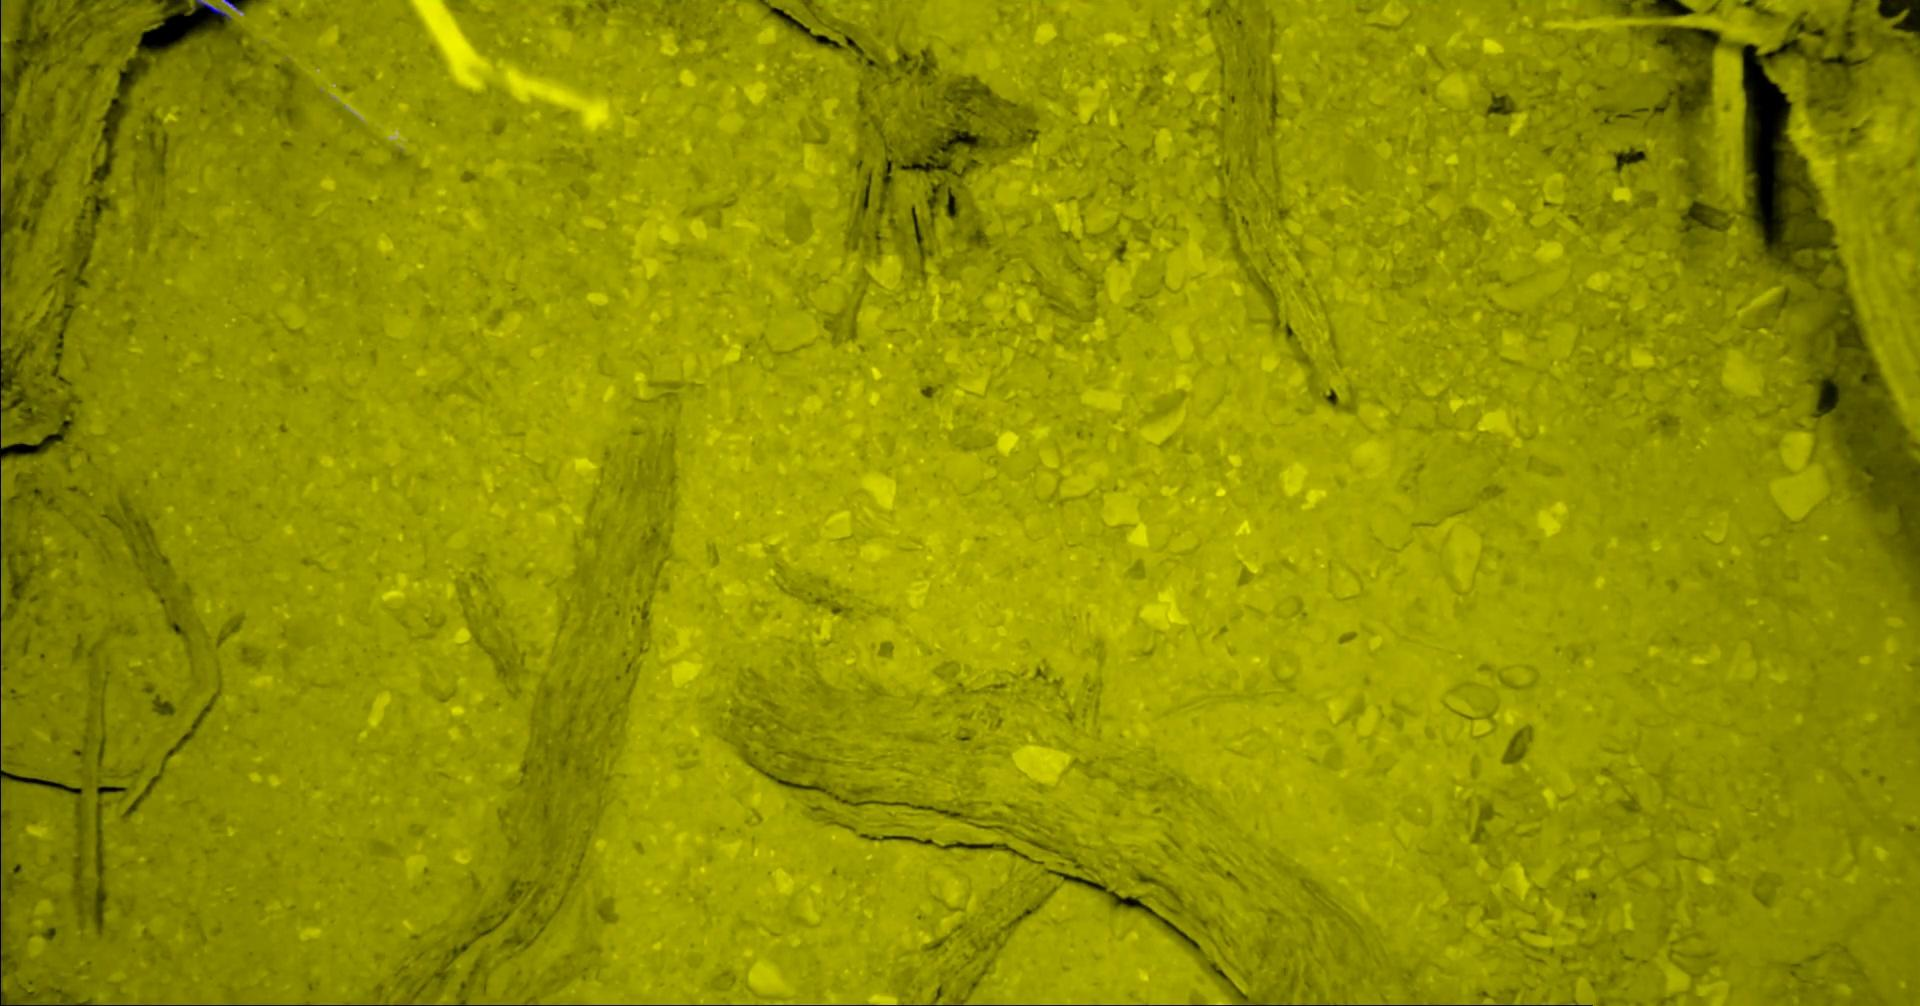ant: (196, 0, 230, 19), (0, 901, 1, 991)
